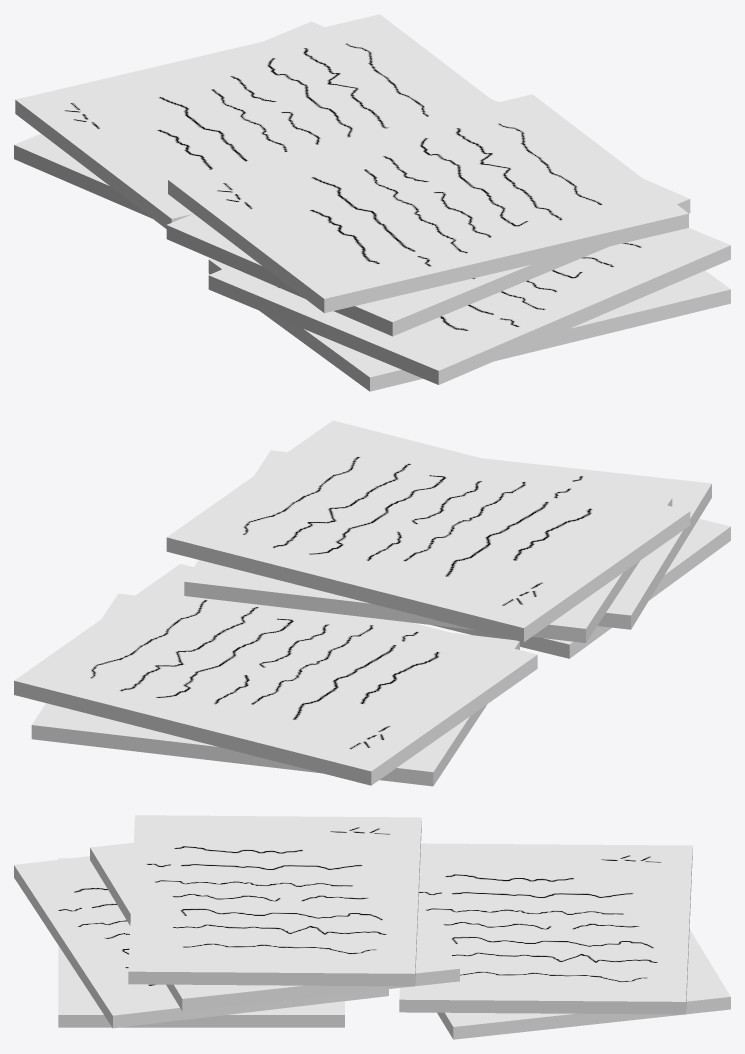
The model's file is Daginik_kagitlar.fbx.
3 renders of one model, top to bottom at view 1: azimuth 30°, elevation 25°; view 2: azimuth 150°, elevation 25°; view 3: azimuth 270°, elevation 25°, orthographic. The views are drawn at different scales.
Visible parts, largest first — view 1: Cube; view 2: Cube; view 3: Cube.
Boxes of the visible parts, x1,y1,x2,y2 form: Cube: [14, 14, 730, 391]; Cube: [14, 420, 730, 786]; Cube: [14, 815, 730, 1039].
Size of the model in its own units: 36.28 by 5.06 by 60.03.
